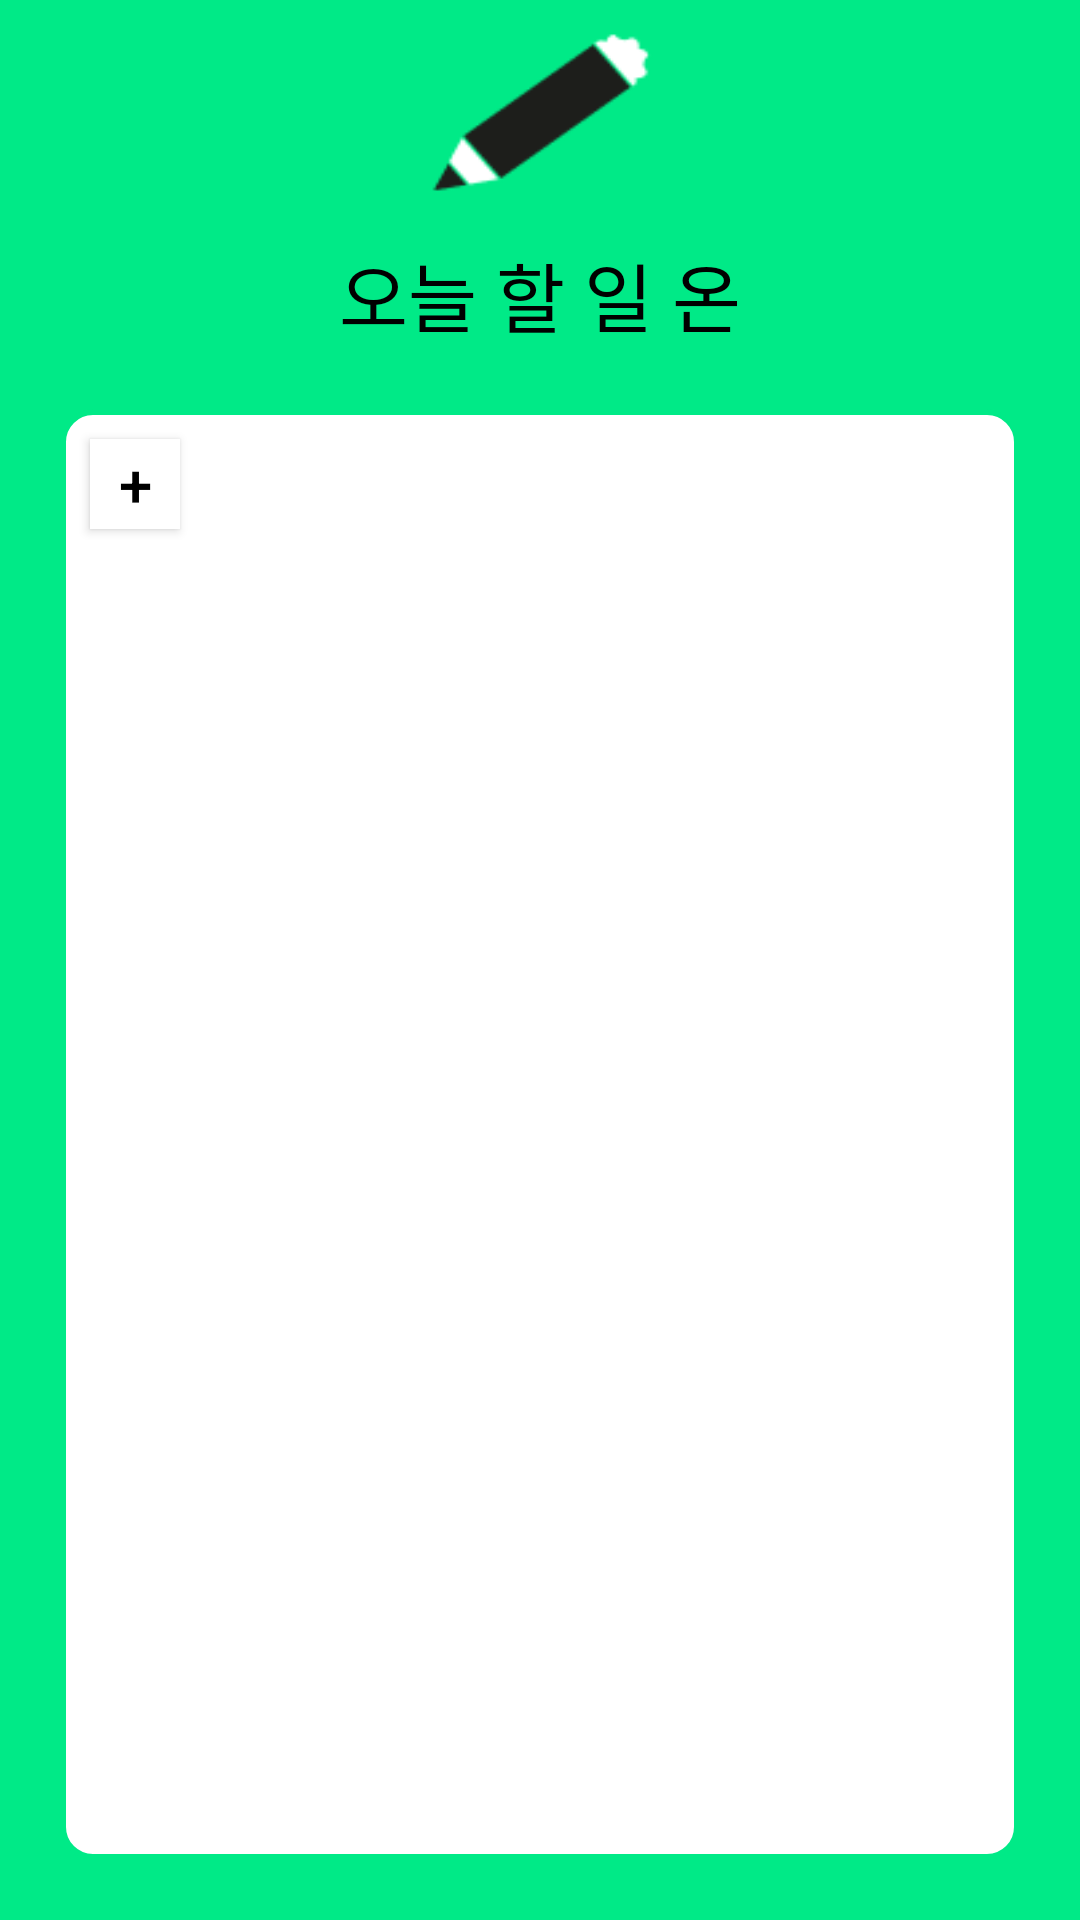

Where icons sit on this 1080x1920 app screen, as (x1, y1, x2, y2):
pencil: (433, 34, 649, 191)
